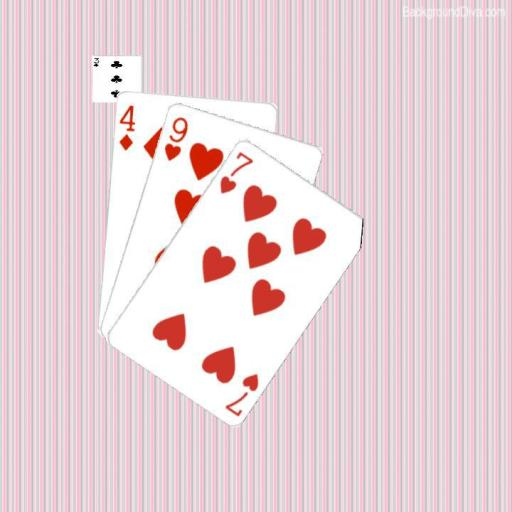4D: (115, 101, 137, 151)
7H: (221, 370, 260, 418), (216, 148, 255, 195)
9H: (161, 113, 189, 162)
